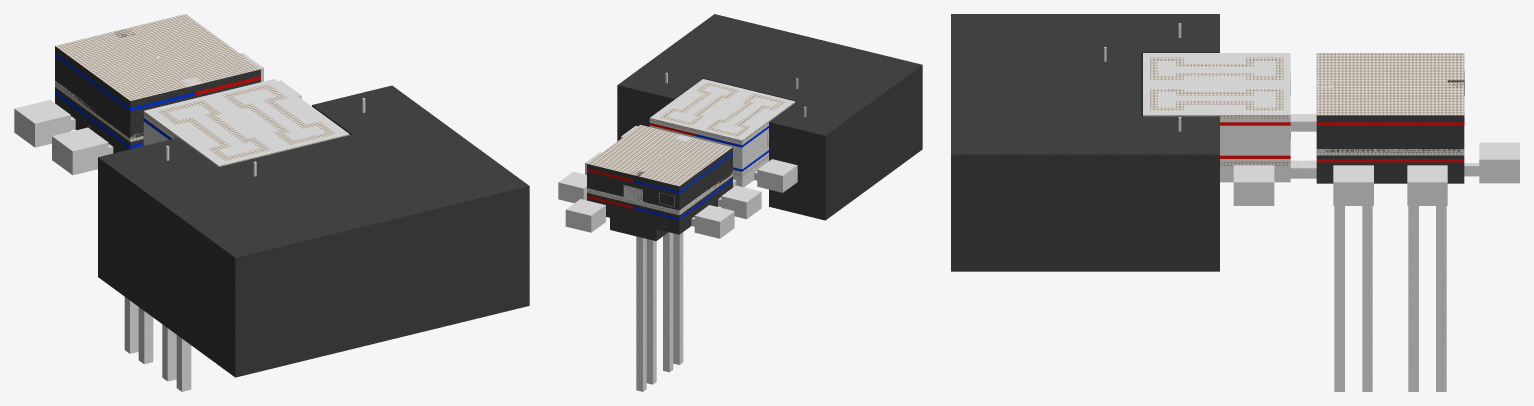
The model's file is portal_Campaign4.fbx.
3 renders of one model, left to right at view 1: azimuth 30°, elevation 25°; view 2: azimuth 150°, elevation 25°; view 3: azimuth 270°, elevation 25°, orthographic. The views are drawn at different scales.
Parts seen in each view (by area): view 1: Tile_Campaign4.001, Tile_Campaign4; view 2: Tile_Campaign4.001, Tile_Campaign4; view 3: Tile_Campaign4.001, Tile_Campaign4.
Boxes of the visible parts, x1,y1,x2,y2 form: Tile_Campaign4.001: (98,85,529,377); Tile_Campaign4: (14,14,365,391); Tile_Campaign4.001: (617,14,922,220); Tile_Campaign4: (558,72,806,391); Tile_Campaign4.001: (951,14,1219,271); Tile_Campaign4: (1104,23,1519,391).
Size of the model in its own units: 90 by 95.31 by 154.
